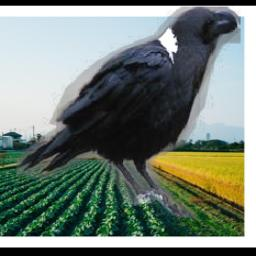Crow: (16, 7, 241, 218)
